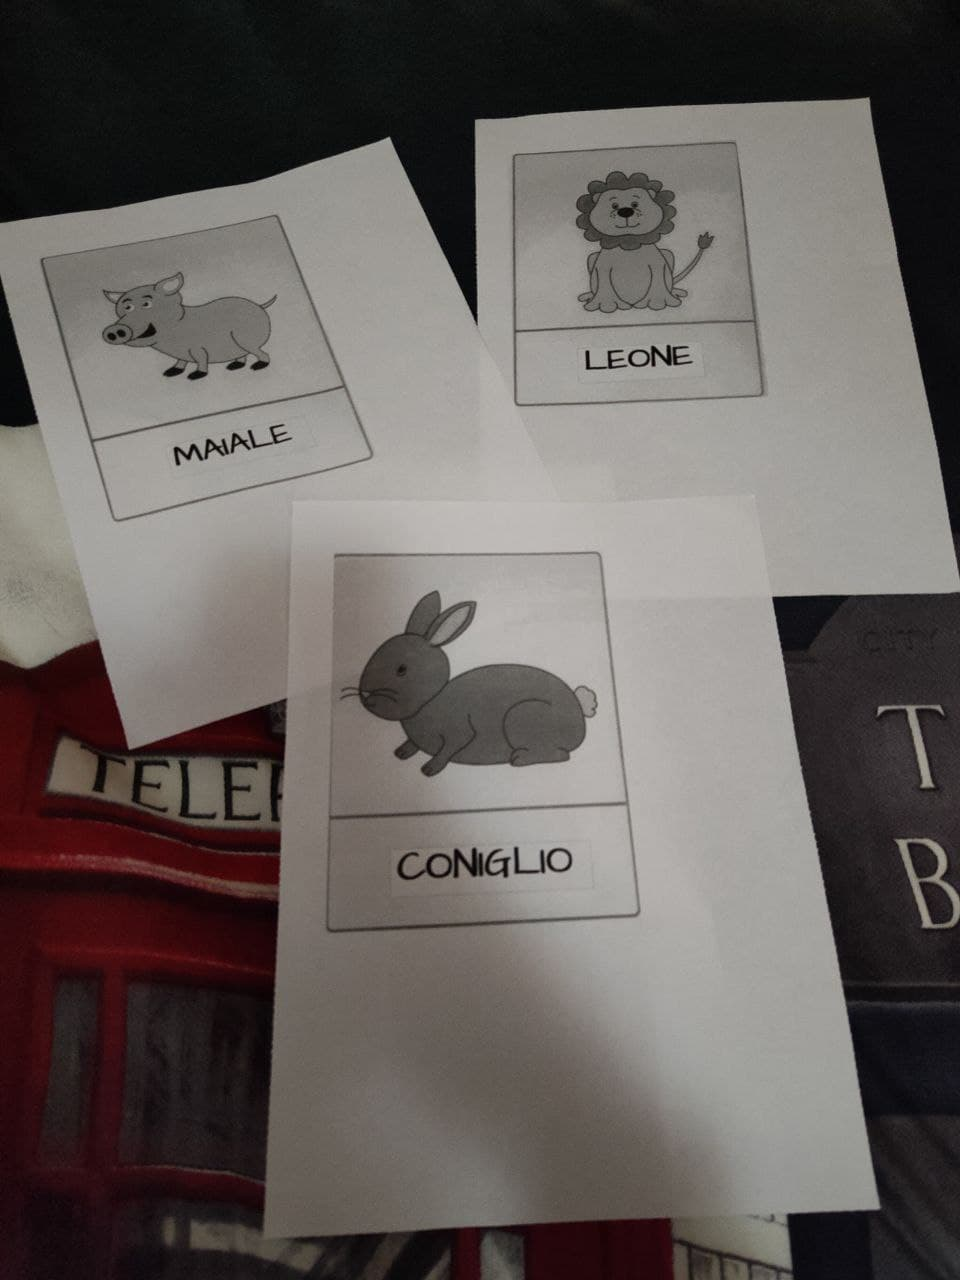coniglio: (337, 561, 619, 904)
leone: (524, 152, 755, 389)
maiale: (69, 255, 340, 489)
